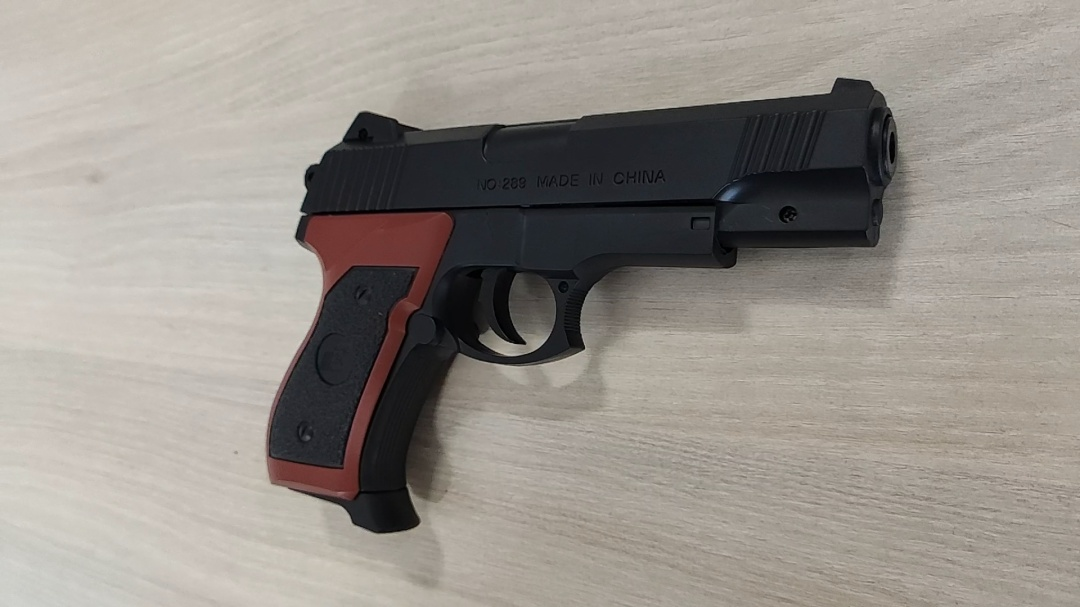gun: (501, 379, 534, 461)
